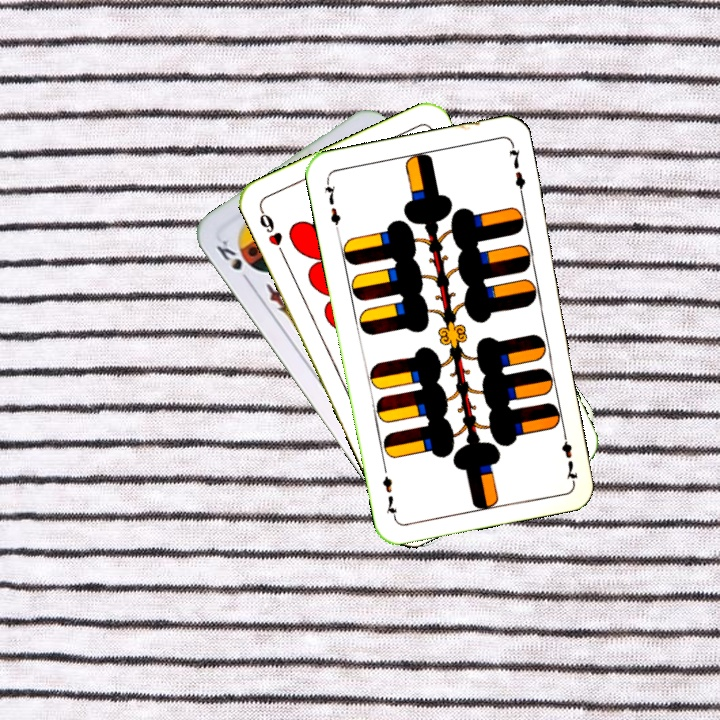E7: (319, 176, 343, 235), (557, 425, 580, 484)
H9: (255, 205, 288, 260)
SK: (212, 235, 254, 287)
